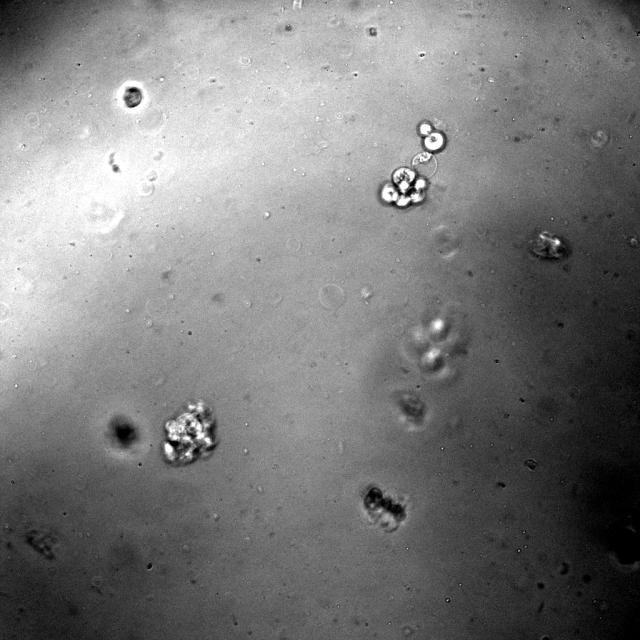organoid: (379, 120, 446, 208), (401, 304, 466, 383), (164, 400, 216, 464), (363, 485, 406, 532), (105, 414, 141, 454), (529, 231, 570, 259), (396, 391, 425, 421), (123, 87, 141, 108)
